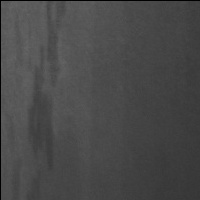inclusion: (22, 3, 68, 198)
